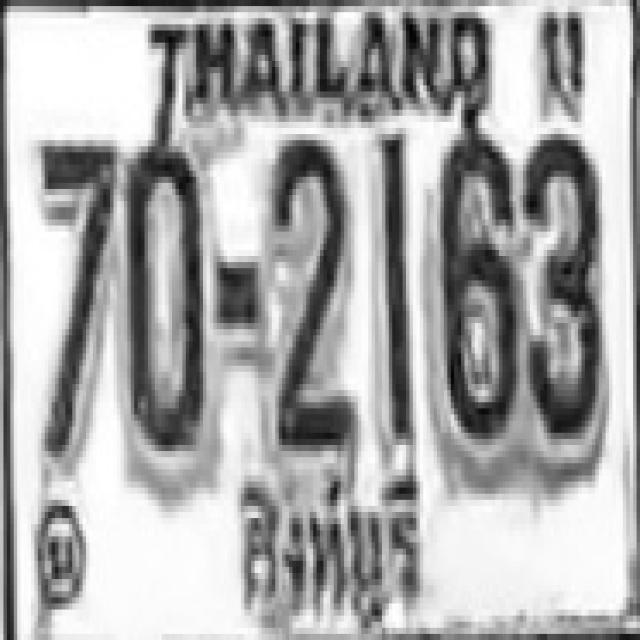0: (122, 134, 205, 451)
1: (380, 131, 411, 448)
2: (272, 134, 351, 445)
3: (522, 128, 600, 439)
6: (437, 128, 516, 439)
7: (36, 134, 115, 463)
SBR: (222, 461, 433, 638)
